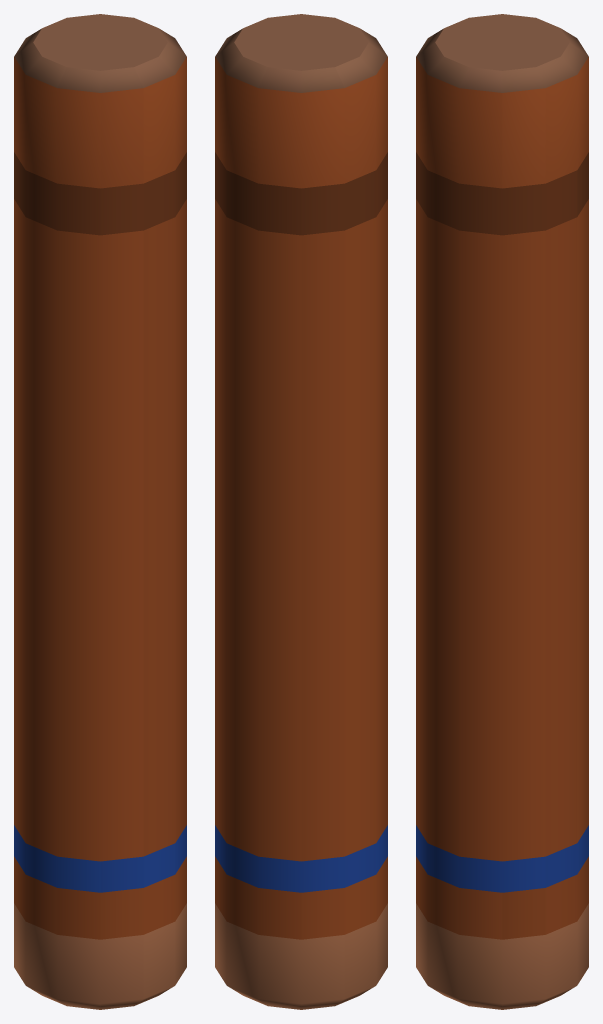
The model's file is copper_rod.glb.
3 views of the same model, side by side, from view 1: azimuth 30°, elevation 25°; view 2: azimuth 150°, elevation 25°; view 3: azimuth 270°, elevation 25° (orthographic).
Parts seen in each view (by area): view 1: Mesh; view 2: Mesh; view 3: Mesh.
Boxes of the visible parts, box(x1,y1,x2,y2) form: Mesh: box(14, 14, 186, 1009); Mesh: box(215, 14, 387, 1009); Mesh: box(416, 14, 588, 1009).
Size of the model in its own units: 0.2 by 1.2 by 0.2.
